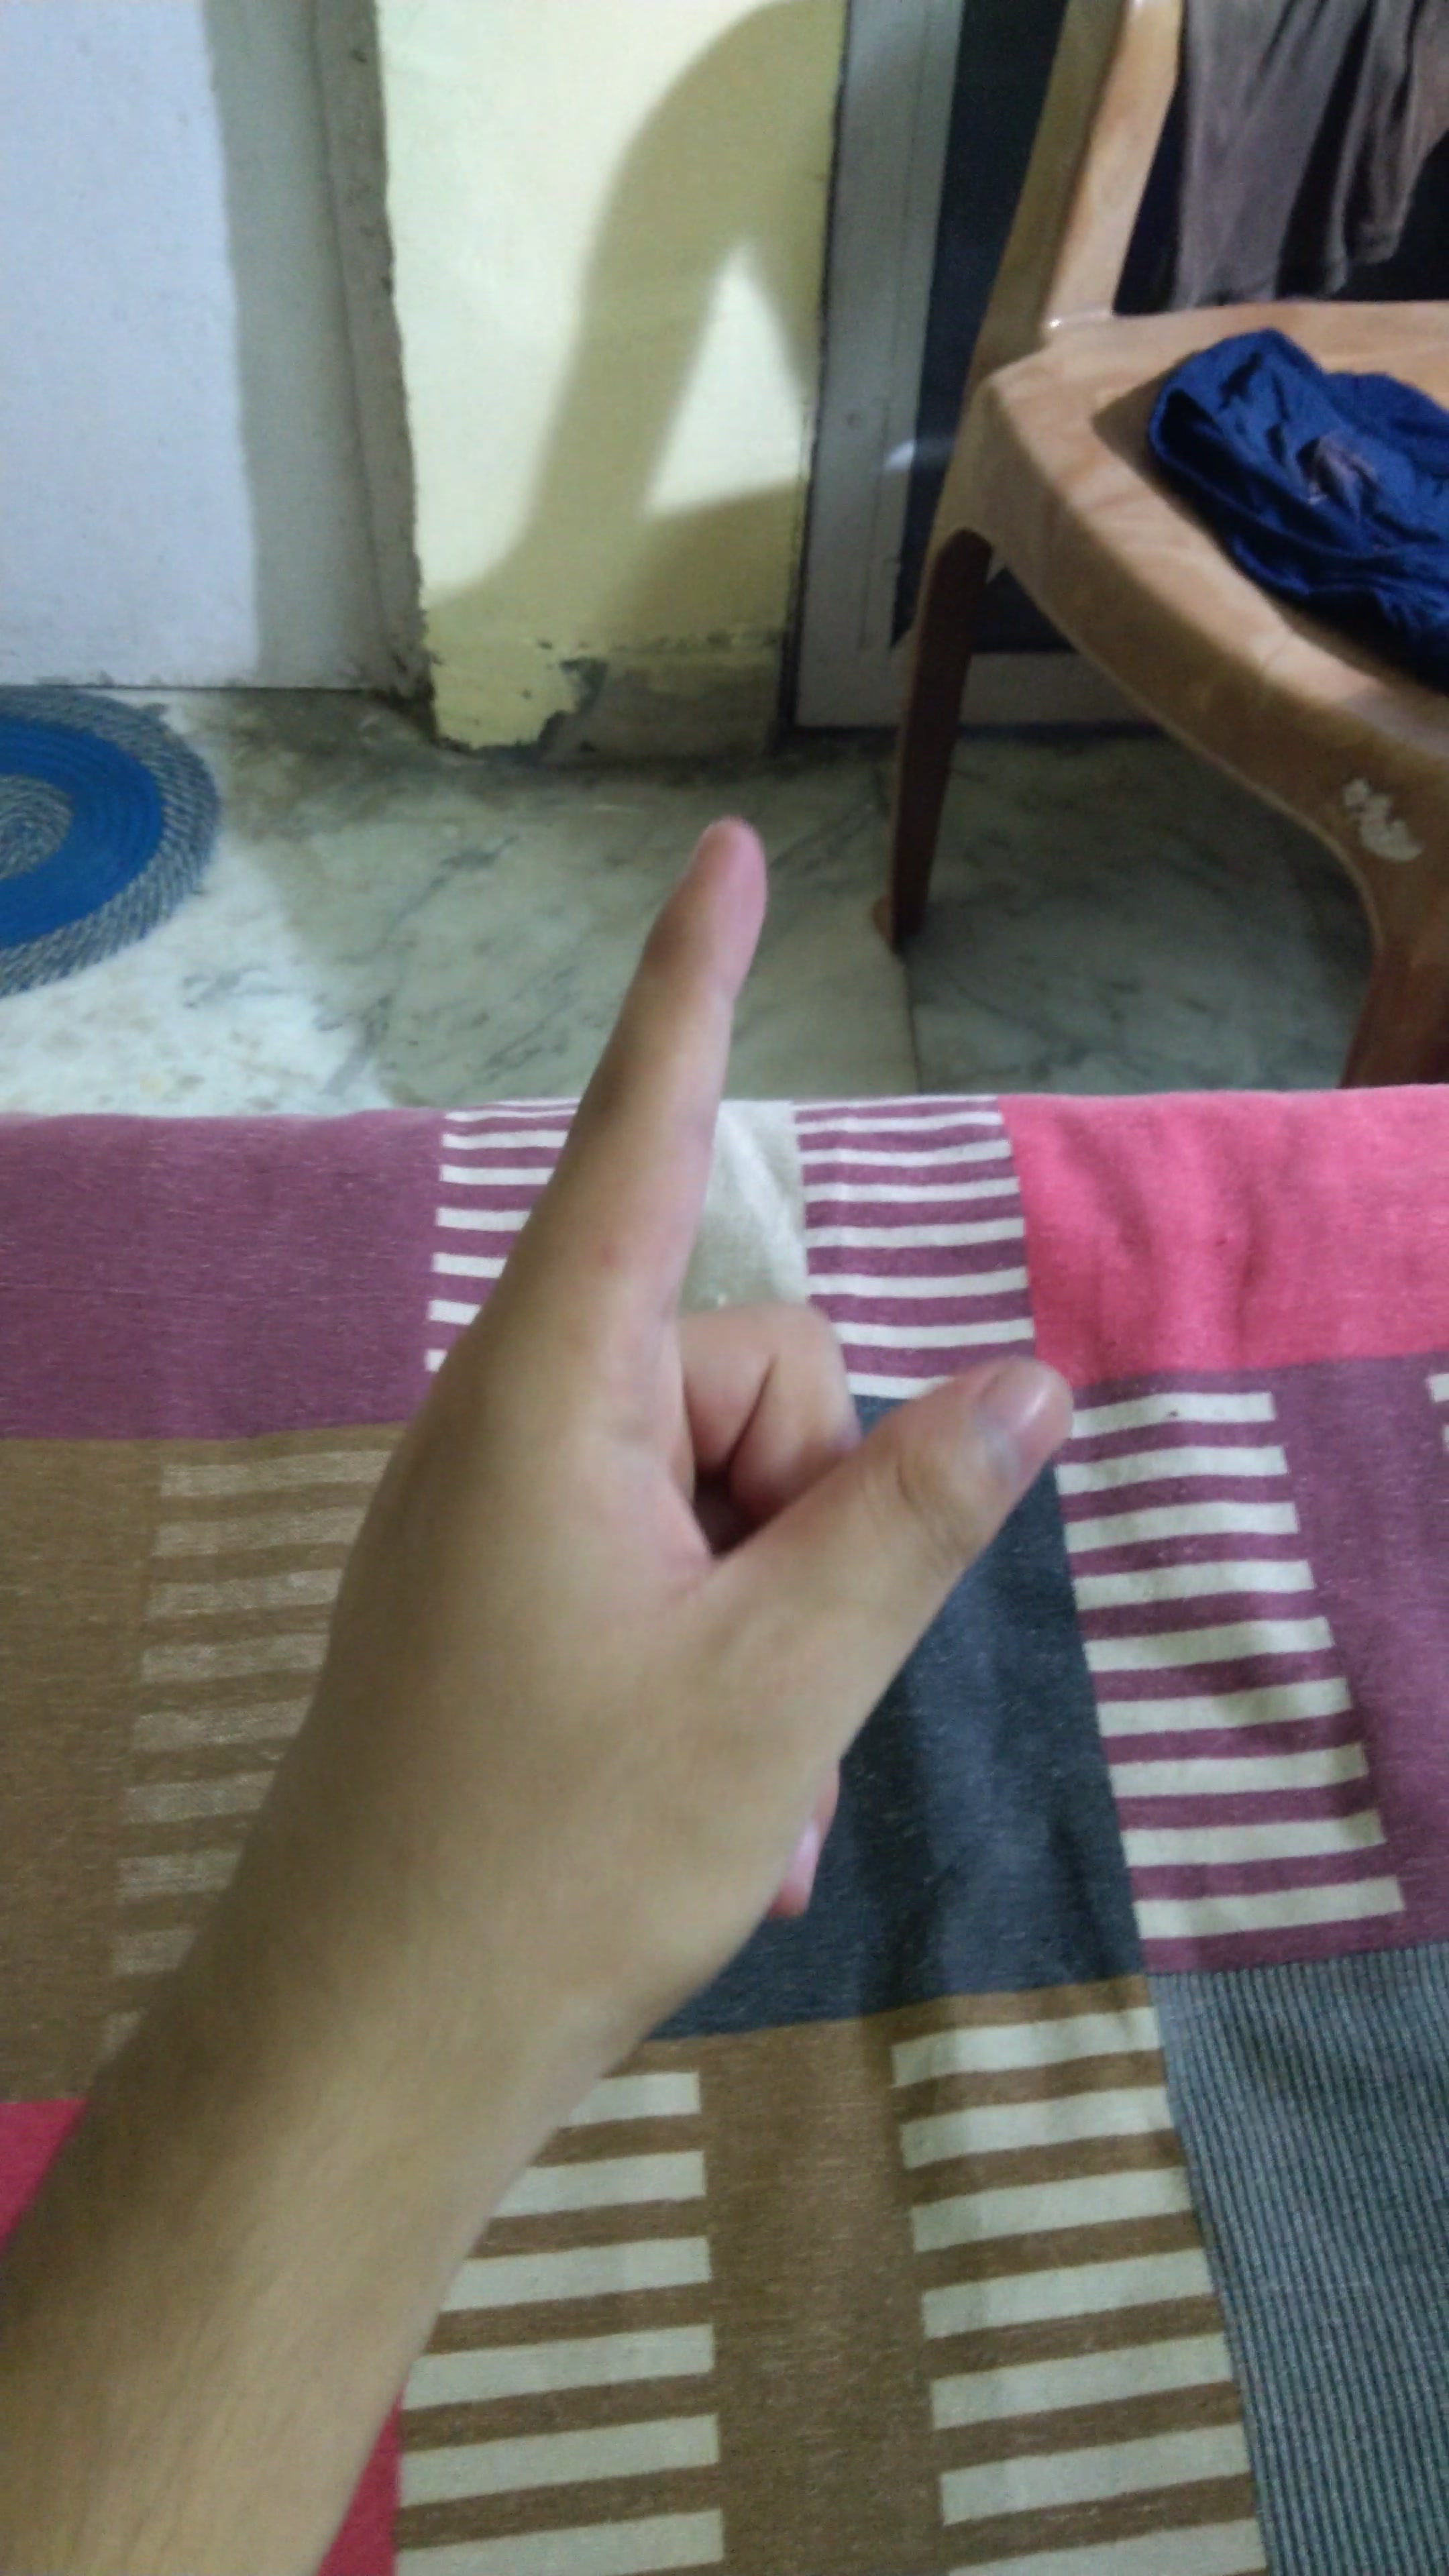hand: (267, 782, 1122, 2077)
